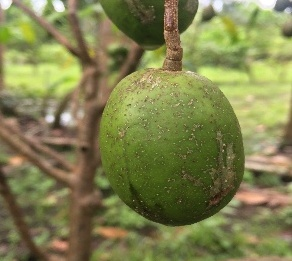Coc: (98, 66, 251, 233)
